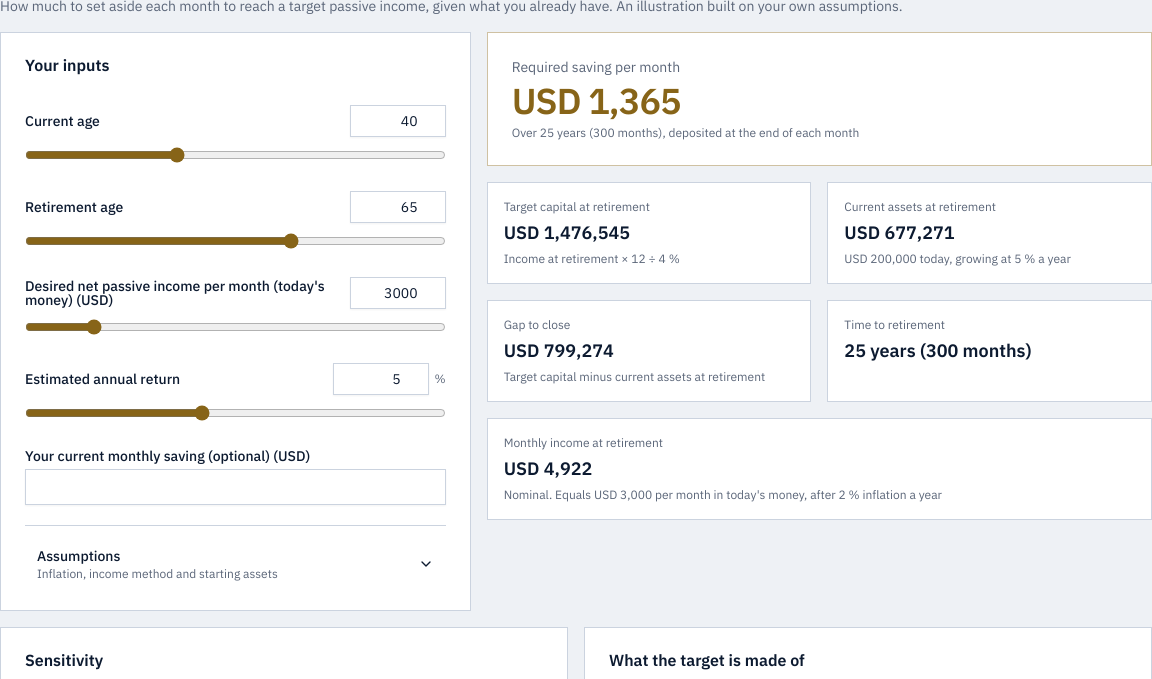
it: defaults and result › switches to the returns-only method (about 467 per month)
Replace the text in the number field labelled "Retirement age" with "60" at (398, 207), box x1=350 y1=191 x2=446 y2=223
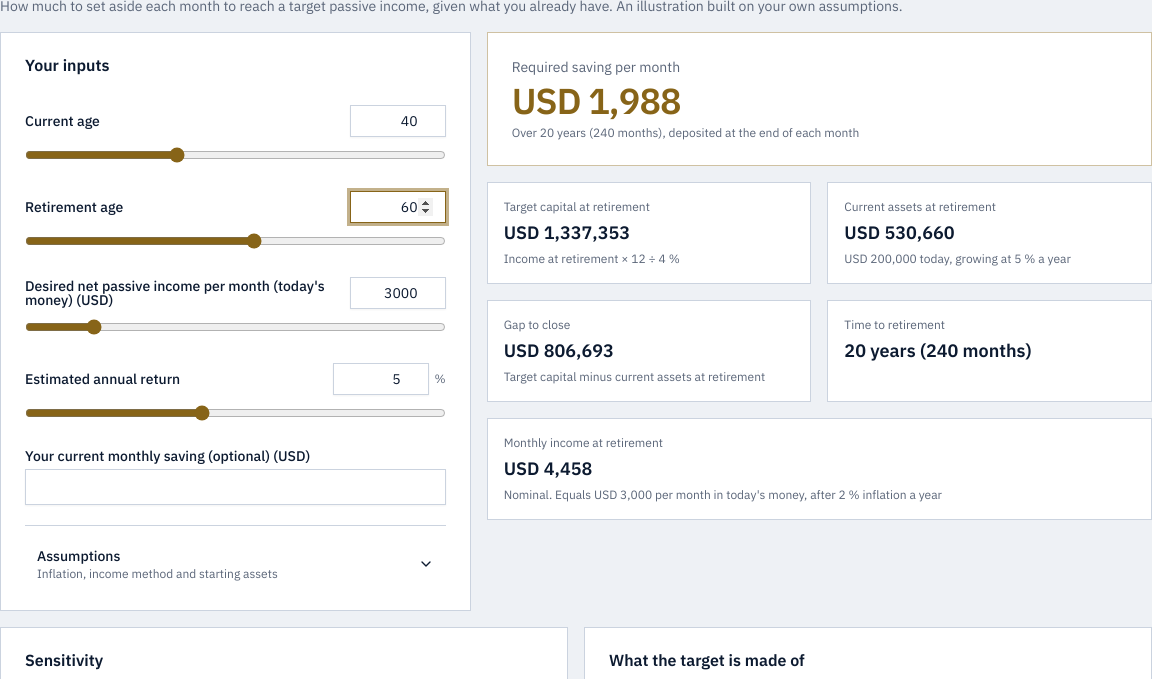
Click the button "Assumptions Inflation, income method and starting assets" at (235, 564), box x1=25 y1=542 x2=446 y2=586
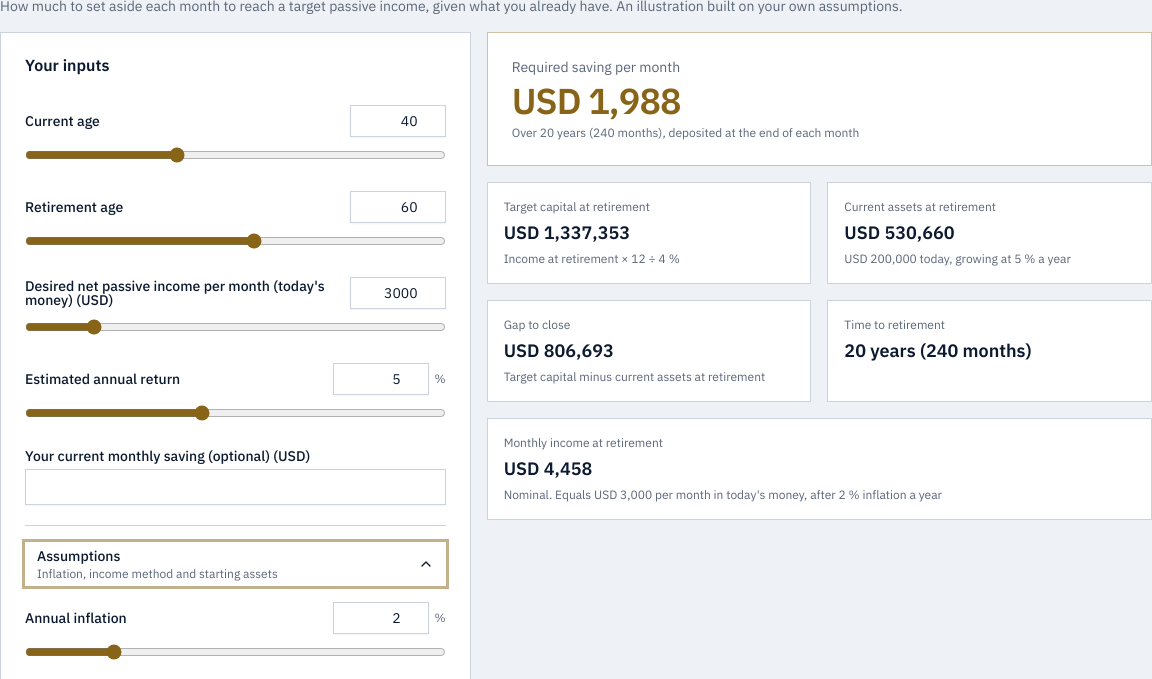
Replace the text in the number field labelled "Annual inflation" with "0" at (380, 618), box x1=332 y1=602 x2=428 y2=634
(page scrolled)
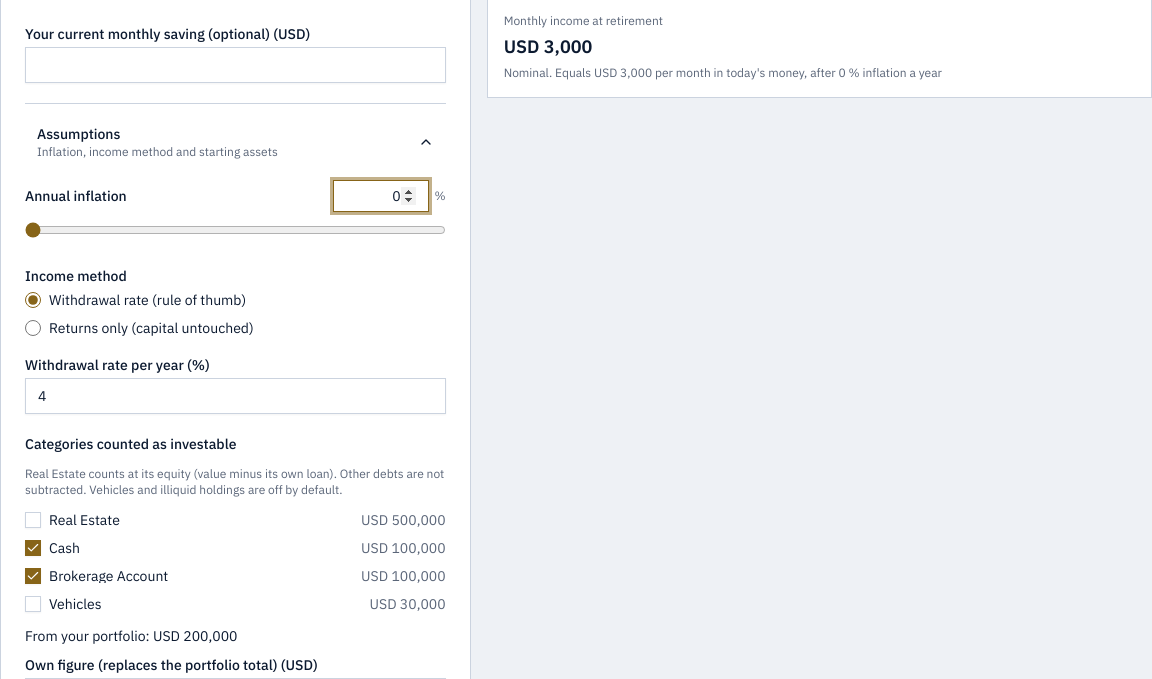
Click the radio button labelled "Returns only (capital untouched)" at (33, 328), box x1=25 y1=320 x2=41 y2=336
(page scrolled)
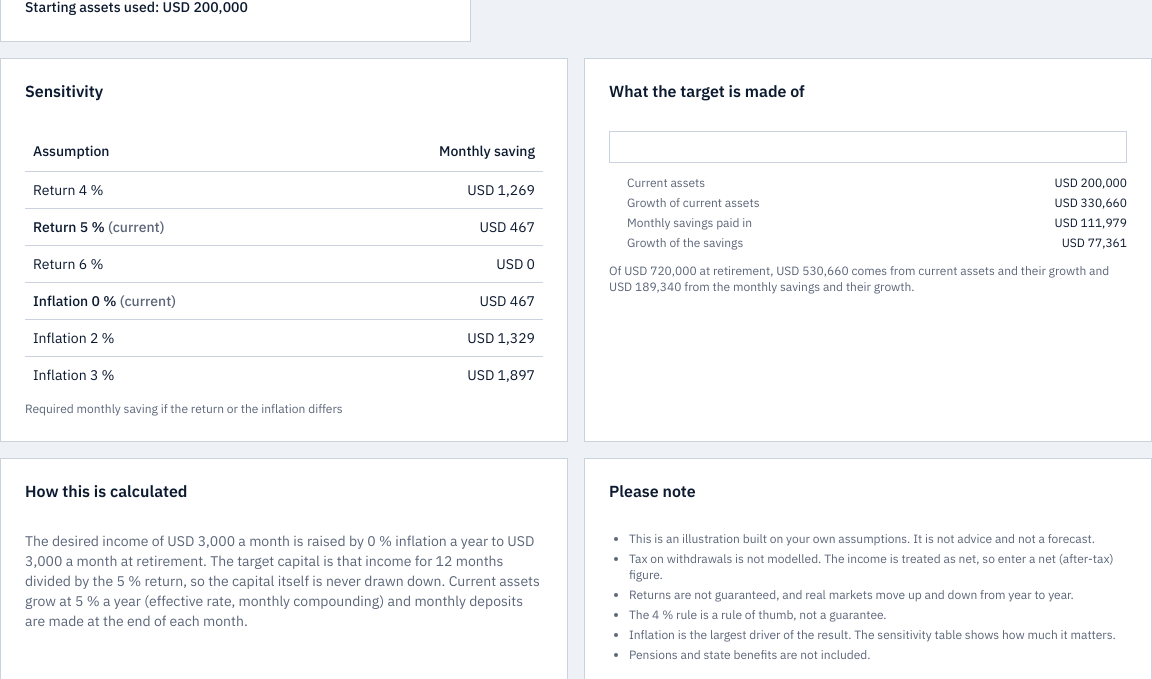
Expected: the number field labelled "withdrawal rate" is not shown
Now the text with test id "ret-summary" shows "never drawn down", box x1=25 y1=532 x2=540 y2=630
